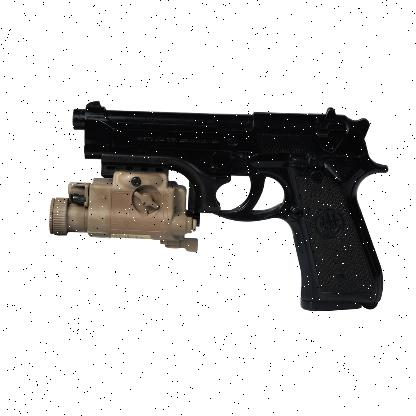gun: (49, 98, 388, 310)
